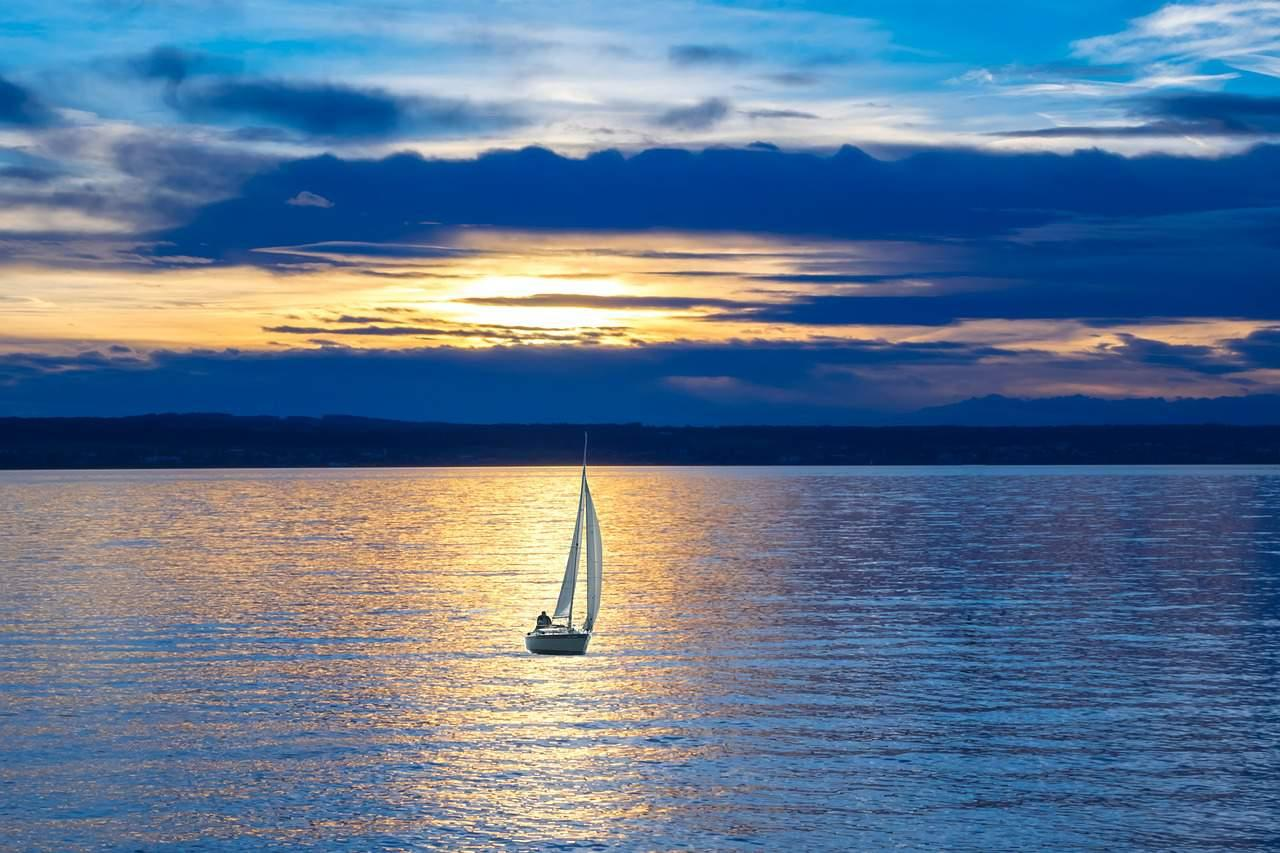Ship: (526, 460, 604, 658)
